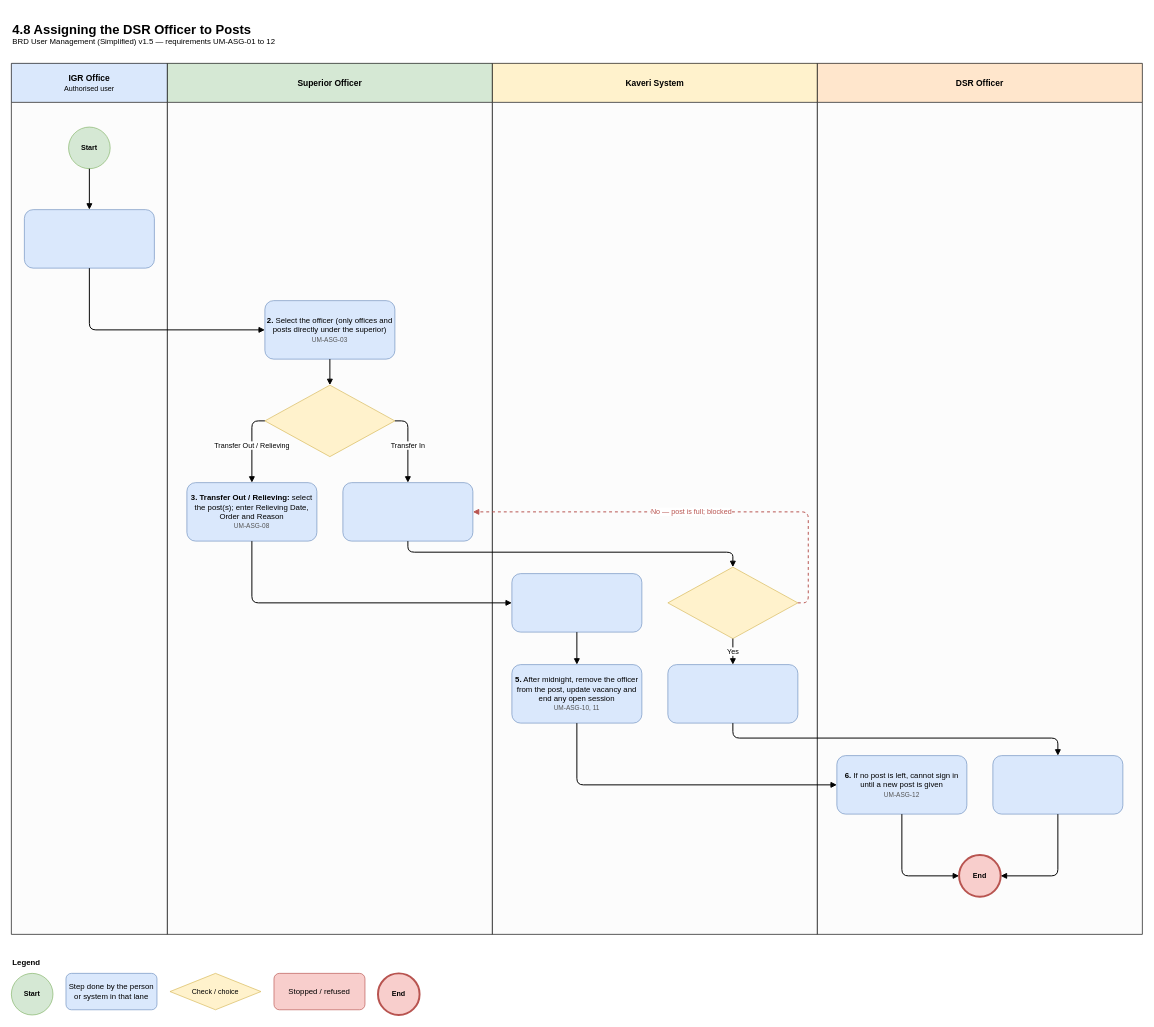
Image size: 1154x1027. Some labels were removed from this diagram. The centre of each missing label's shape, as x and y in pixels:
1. Upload the movement order for the officer UM-ASG-02: point (89, 238)
3. Transfer In: select a post and enter the Transfer / Reporting Order UM-ASG-05: point (407, 511)
4. Officer keeps the post until the end of the Relieving Date UM-ASG-09: point (576, 602)
4. Place the officer in the post now and update the vacancy count UM-ASG-06: point (732, 693)
5. Sees the new post at the next sign-in UM-ASG-06: point (1057, 784)
Does the post have a vacancy? UM-ASG-04, 07: point (732, 602)
Select the process UM-ASG-01: point (329, 420)
